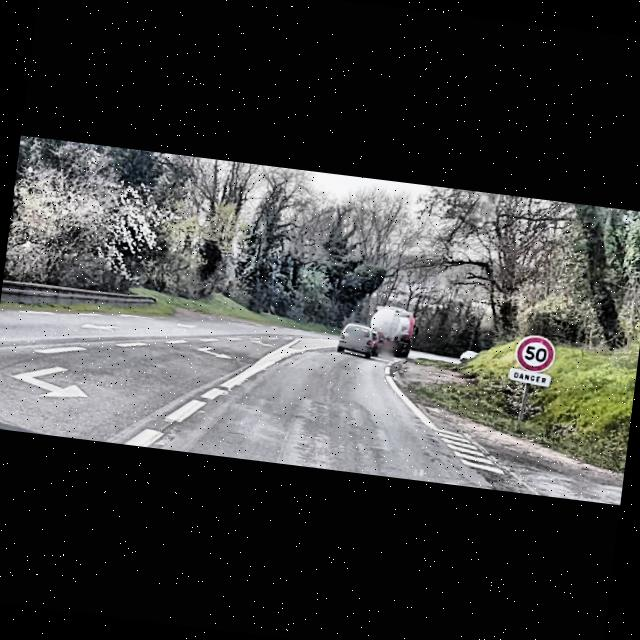speed_50: (514, 336, 555, 374)
